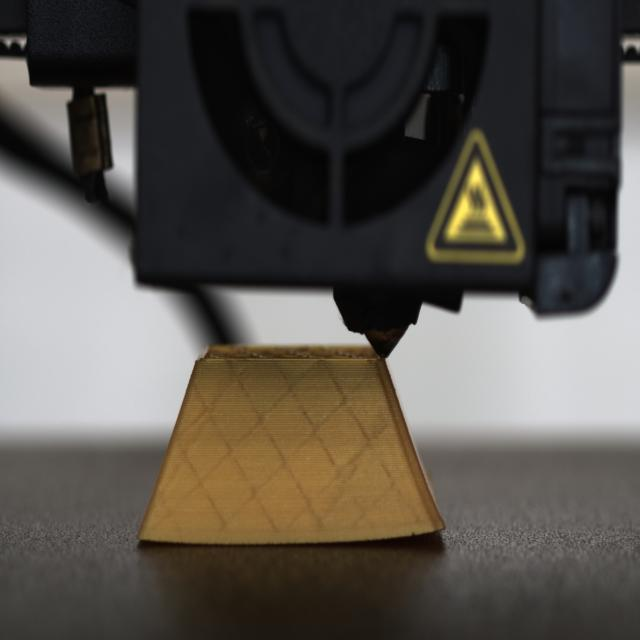Warping: (378, 518, 451, 550)
